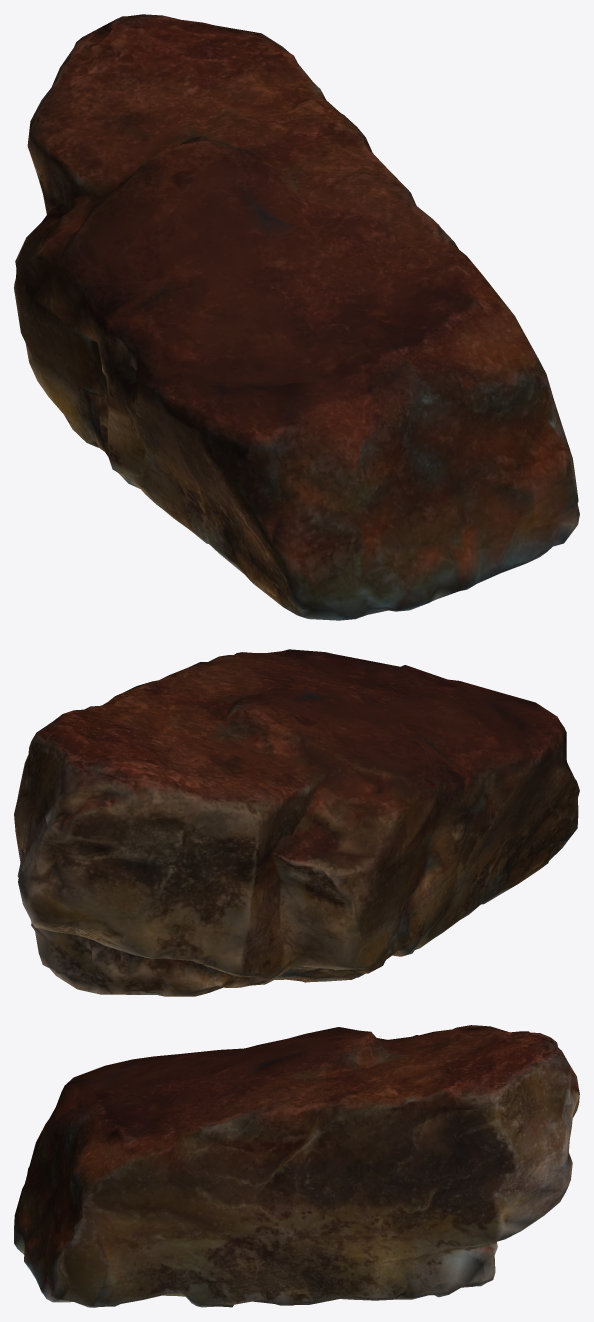
Rendered from rock_07.glb.
3 renders of one model, top to bottom at view 1: azimuth 30°, elevation 25°; view 2: azimuth 150°, elevation 25°; view 3: azimuth 270°, elevation 25°, orthographic. The views are drawn at different scales.
Parts seen in each view (by area): view 1: rock_07; view 2: rock_07; view 3: rock_07.
Part boxes in pixels (bbox=[...]): rock_07: bbox=[14, 14, 579, 620]; rock_07: bbox=[14, 649, 579, 996]; rock_07: bbox=[14, 1025, 579, 1307].
Bounding box in the file's own units: 0.1681 × 0.1437 × 0.3199.
Materials: 1 (1 with a texture image).
